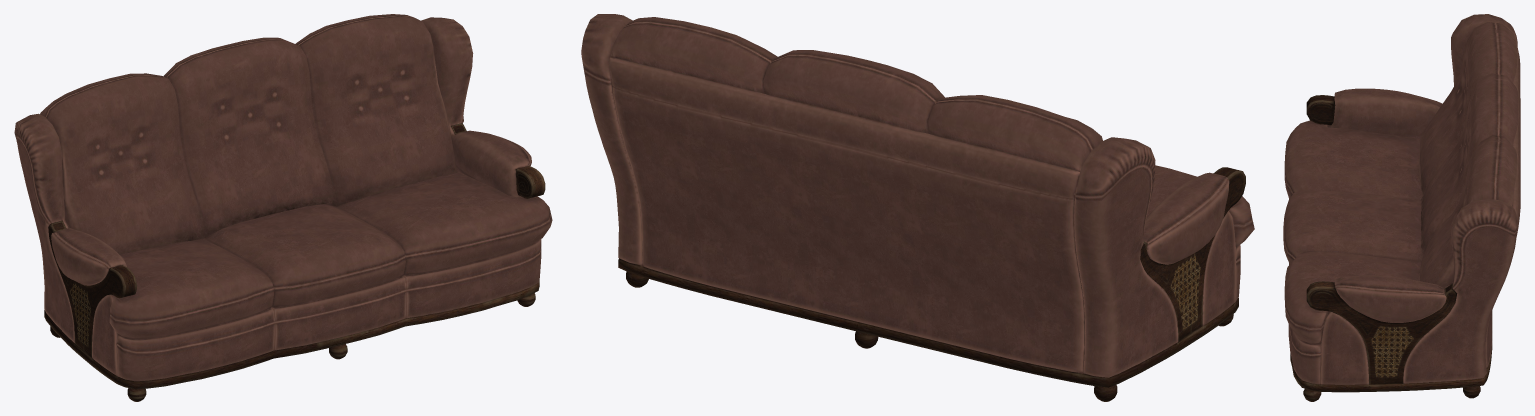
Rendered from BrownSofa.glb.
3 renders of one model, left to right at view 1: azimuth 30°, elevation 25°; view 2: azimuth 150°, elevation 25°; view 3: azimuth 270°, elevation 25°, orthographic. The views are drawn at different scales.
Parts seen in each view (by area): view 1: sofa_classic_ch_models_; view 2: sofa_classic_ch_models_; view 3: sofa_classic_ch_models_.
Boxes of the visible parts, x1,y1,x2,y2 form: sofa_classic_ch_models_: [14, 14, 552, 401]; sofa_classic_ch_models_: [581, 14, 1254, 401]; sofa_classic_ch_models_: [1283, 14, 1520, 401].
Bounding box in the file's own units: 1.93 × 0.9622 × 0.9421.
Materials: 2 (2 with a texture image).
